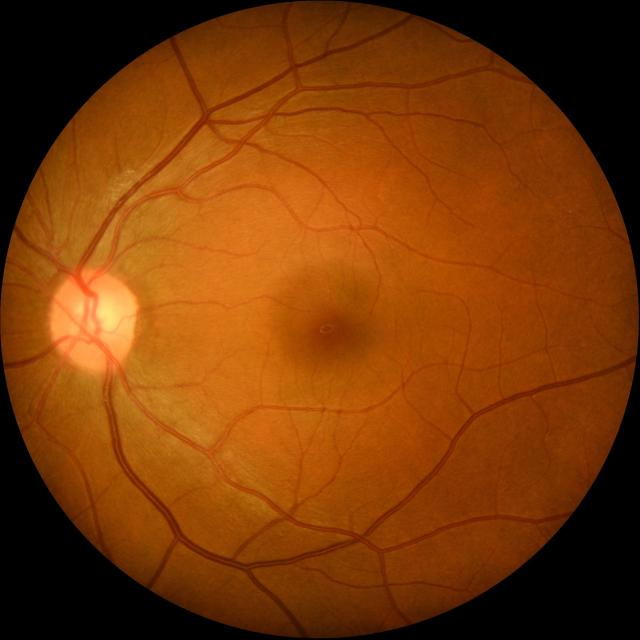OC: (76, 294, 116, 336)
OD: (49, 268, 137, 372)
